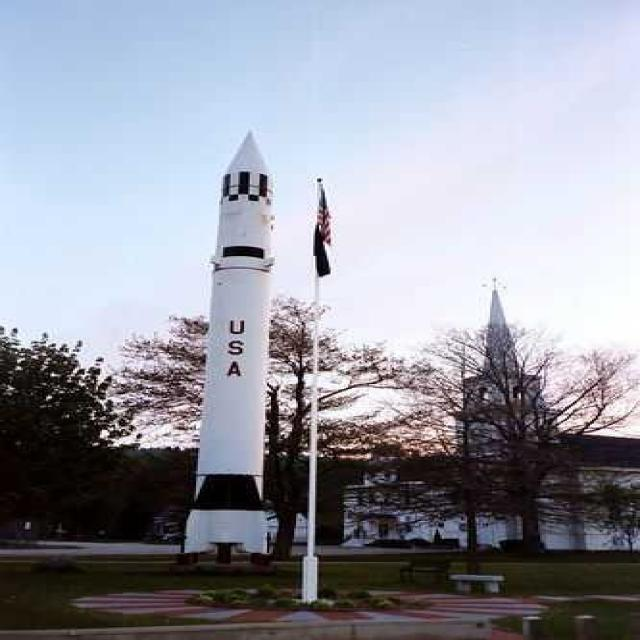missile: (186, 133, 290, 560)
